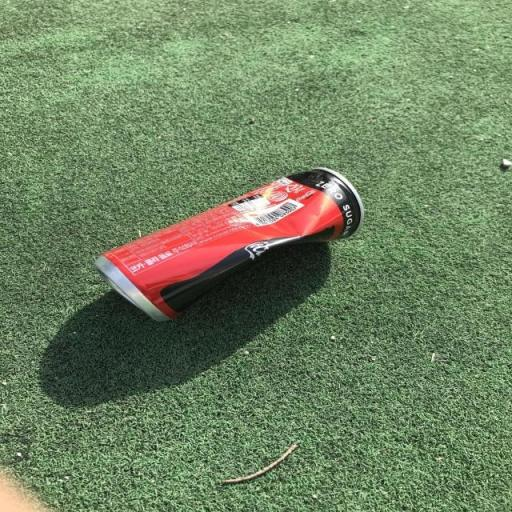metal: (73, 156, 398, 334)
